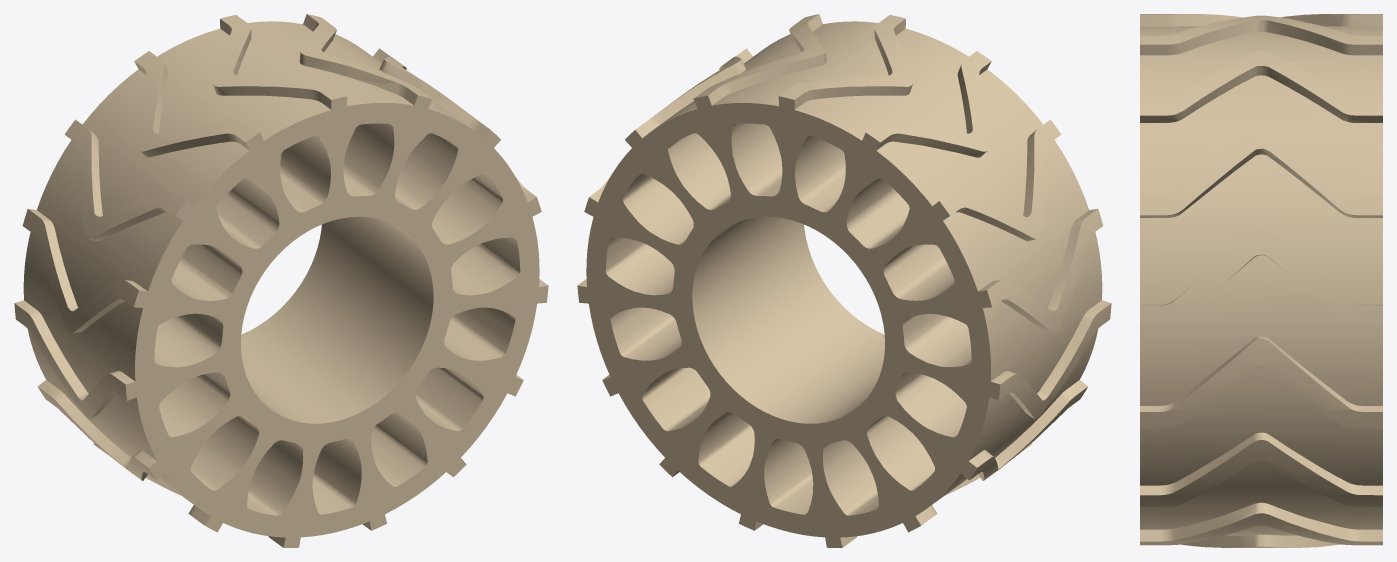
File: odyssey-wheel.glb
3 renders of one model, left to right at view 1: azimuth 30°, elevation 25°; view 2: azimuth 150°, elevation 25°; view 3: azimuth 270°, elevation 25°, orthographic. The views are drawn at different scales.
Parts seen in each view (by area): view 1: Odyssey wheel; view 2: Odyssey wheel; view 3: Odyssey wheel.
Part boxes in pixels (box(x1,y1,x2,y2)): Odyssey wheel: box(14, 14, 548, 547); Odyssey wheel: box(577, 14, 1111, 547); Odyssey wheel: box(1140, 14, 1382, 547).
Size of the model in its own units: 2 by 2 by 0.9091.
